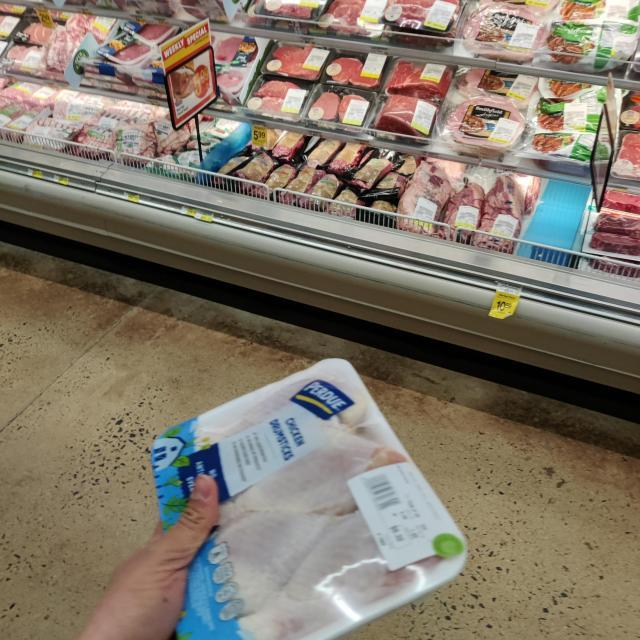Meat: (154, 354, 472, 640), (397, 155, 465, 235), (464, 2, 551, 61), (447, 98, 528, 158), (472, 173, 529, 253), (582, 190, 640, 254), (300, 83, 376, 131), (369, 95, 445, 142), (244, 79, 314, 121), (262, 41, 333, 81), (322, 46, 392, 86), (440, 182, 486, 241), (229, 147, 278, 190), (111, 123, 158, 167), (24, 118, 82, 152), (96, 34, 155, 66), (299, 175, 347, 210), (71, 126, 119, 159), (256, 163, 298, 197), (351, 159, 392, 190), (5, 46, 49, 74), (329, 143, 367, 175), (302, 138, 342, 168), (24, 82, 59, 106), (0, 83, 39, 100)
